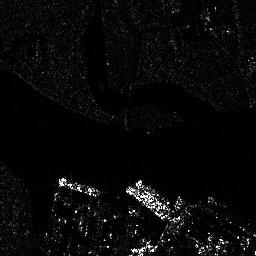ship: (57, 175, 99, 197), (136, 179, 171, 205)
